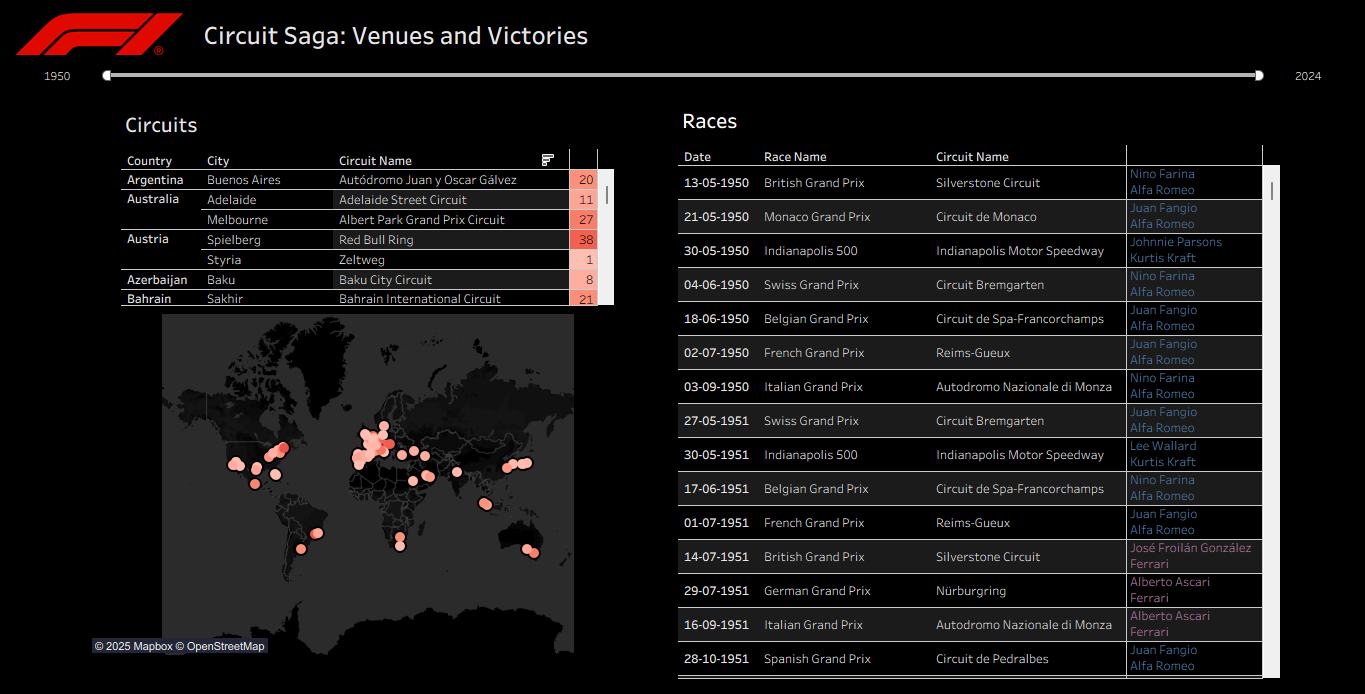

Layout of this report page (visuals, bound fields, positions):
{"tool":"tableau","page":{"name":"Circuits","canvas":[1000,1000],"units":"permille","ordinal":0},"visuals":[{"type":"image","param":"D:/Repos/F1_Stats_Tableau/img/F1_Logo.png","box":[8.2,14.3,163.3,89.3]},{"type":"text","box":[171.5,14.3,820.4,89.3]},{"type":"filter","title":"Races","param":"[federated.1gciksz1by2j2j1de8jam11lnjzv].[tyr:year:qk]","box":[8.2,103.6,983.7,62.5]},{"type":"worksheet","title":"Races","mark":"Automatic","rows":["date","name (races.csv)","name"],"box":[451.9,173.2,536.4,805.4]},{"type":"blank","box":[15.2,180.4,28.1,371.4]},{"type":"worksheet","title":"Circuit stats","mark":"Square","rows":["country","location","name"],"box":[43.3,180.4,377,371.4]},{"type":"blank","box":[420.3,180.4,28.1,371.4]},{"type":"worksheet","title":"Circuit locations","mark":"Automatic","rows":["lat"],"cols":["lng"],"box":[15.2,551.8,433.2,419.6]}]}

Visuals, with their boxes on the dashboard's canvas, which has no fixed pixel size, in thousandths of its width and height (x1, y1, x2, y2). These are canvas units, not pixel positions in the 1365x694 screenshot, which may show the page scaled, cropped or inside an application window:
image: 8 14 172 104
text: 172 14 992 104
"Races" filter: 8 104 992 166
"Races" worksheet: 452 173 988 979
blank: 15 180 43 552
"Circuit stats" worksheet (Square marks): 43 180 420 552
blank: 420 180 448 552
"Circuit locations" worksheet: 15 552 448 971
